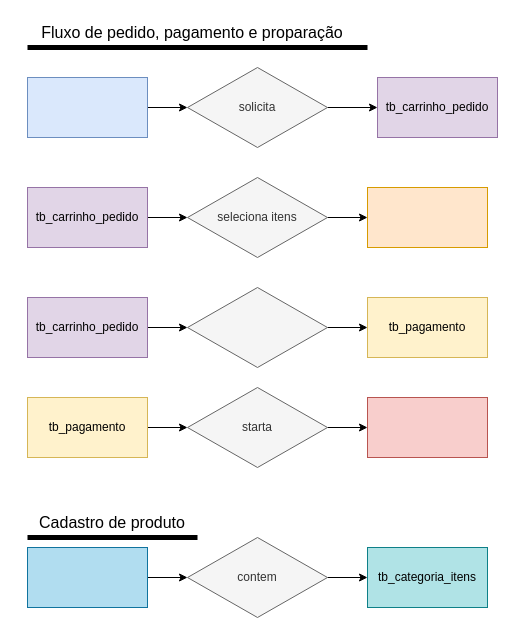
Image size: 515x635. Some labels were removed from this diagram. Each missing label, with the centre of its shape:
"envia" belongs at point 257,327.
"tb_carrinho_produto" belongs at point 427,217.
"tb_cliente" belongs at point 87,107.
"tb_preparacao" belongs at point 427,427.
"tb_produto" belongs at point 87,577.
